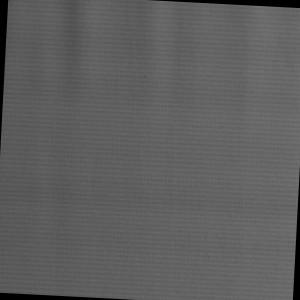Wrinkle: (31, 1, 94, 232), (224, 5, 292, 190), (125, 1, 218, 129)
